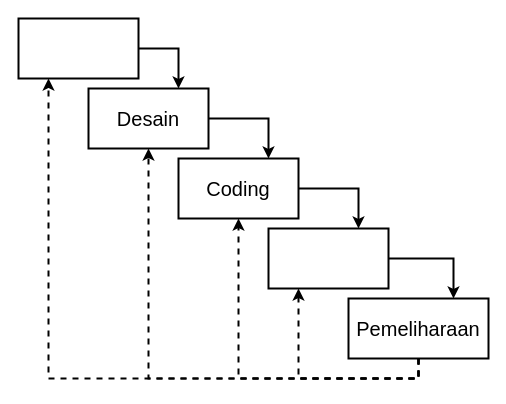
The diagram is 506 pixels wide and 404 high, and some of its shapes have lost their labels. Here are the shapes that lost their labels. From the top down, the box of each, then its label:
(17, 17, 139, 79): Analisis Kebutuhan
(267, 227, 389, 289): Pengujian
